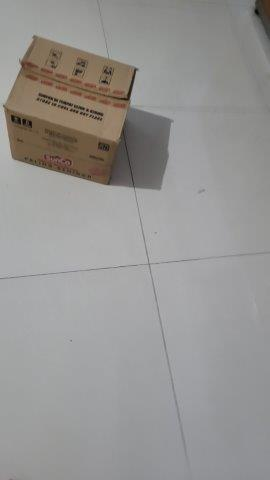kardus: (6, 36, 135, 183)
